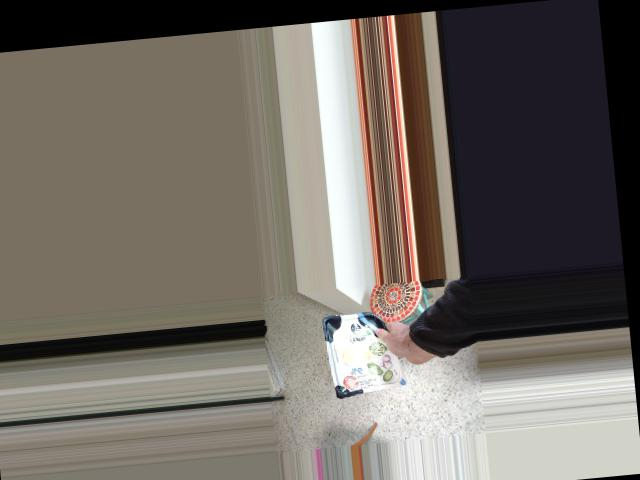cheese: (339, 307, 431, 397)
